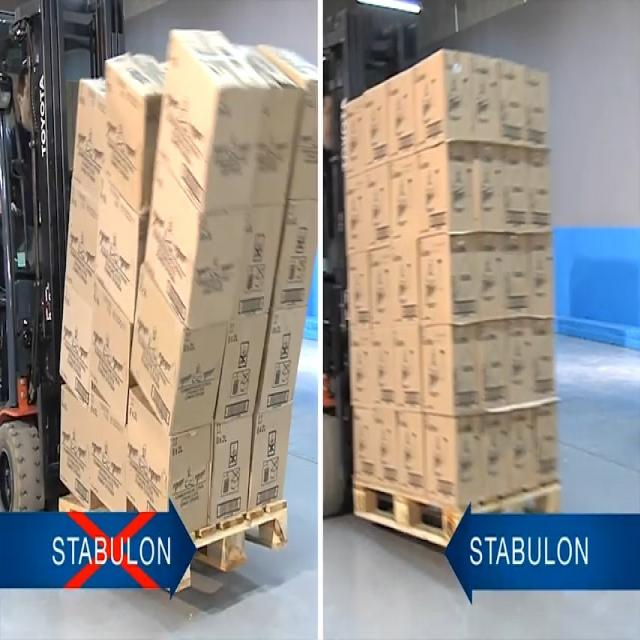Chariot elevateur: (0, 0, 125, 516), (321, 3, 422, 517)
Palette: (348, 475, 580, 545), (176, 496, 294, 596)
